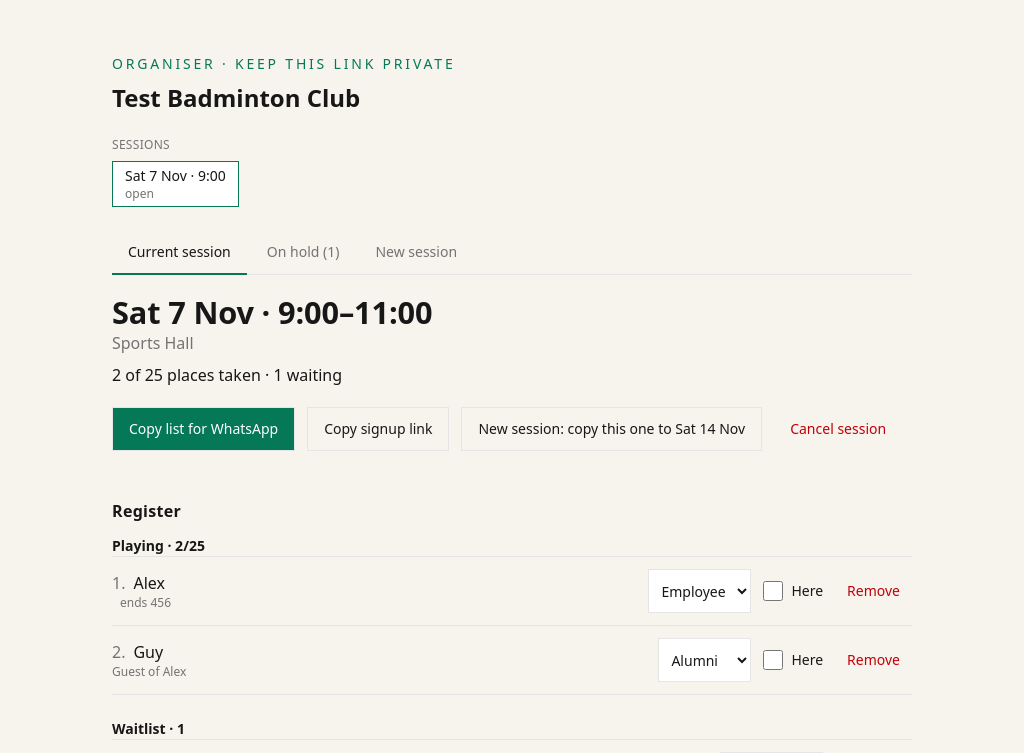
Test: header, picker and tabs › shows one tab panel at a time with proper tab semantics
Click the tab "On hold (1)" at {"x": 303, "y": 253}, box [251, 231, 355, 275]
(page scrolled)
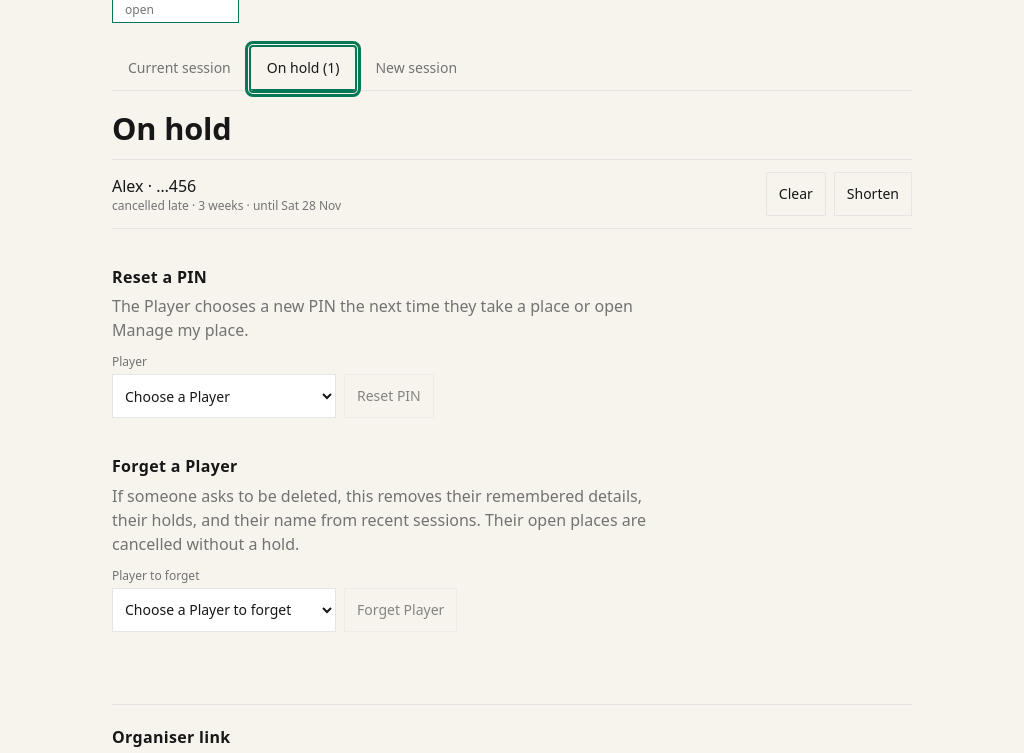
Expected: the panel "On hold" is shown, [112, 91, 912, 656]
